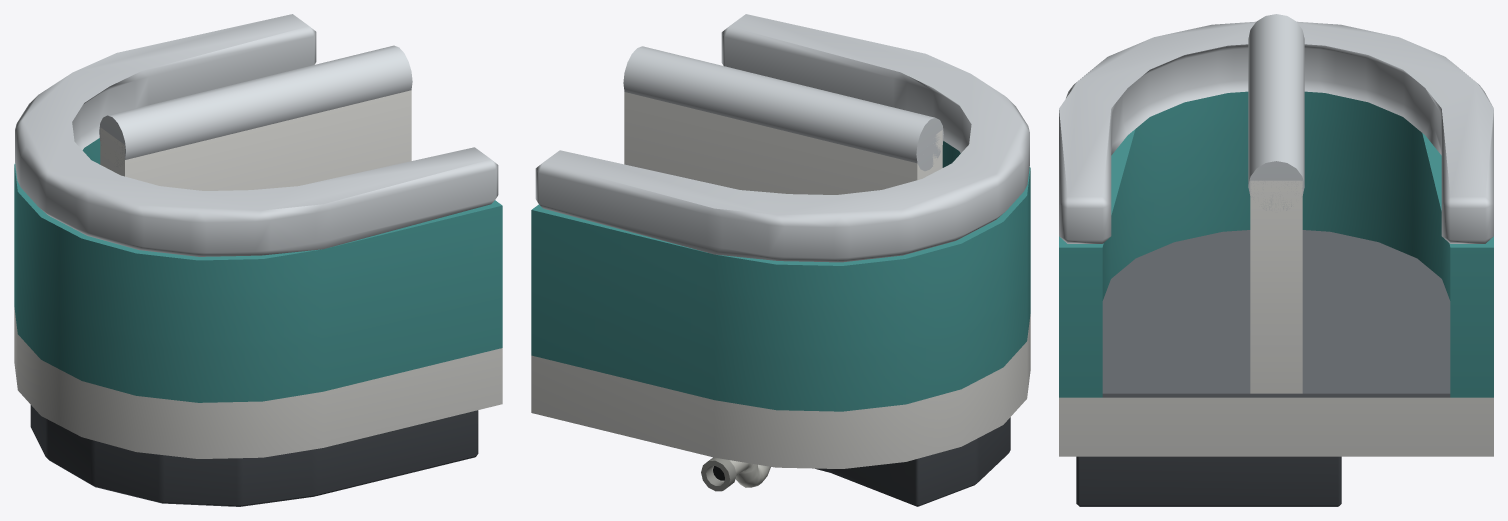
File: IslandFreezer_End_10.glb
3 renders of one model, left to right at view 1: azimuth 30°, elevation 25°; view 2: azimuth 150°, elevation 25°; view 3: azimuth 270°, elevation 25°, orthographic. The views are drawn at different scales.
Parts seen in each view (by area): view 1: SM_IslandFreezer_End_10; view 2: SM_IslandFreezer_End_10; view 3: SM_IslandFreezer_End_10.
Part boxes in pixels (x1,y1,x2,y2): SM_IslandFreezer_End_10: (14, 14, 502, 506); SM_IslandFreezer_End_10: (531, 14, 1030, 506); SM_IslandFreezer_End_10: (1059, 14, 1493, 506).
Size of the model in its own units: 1 by 0.9 by 1.
1 material, 1 textured.
